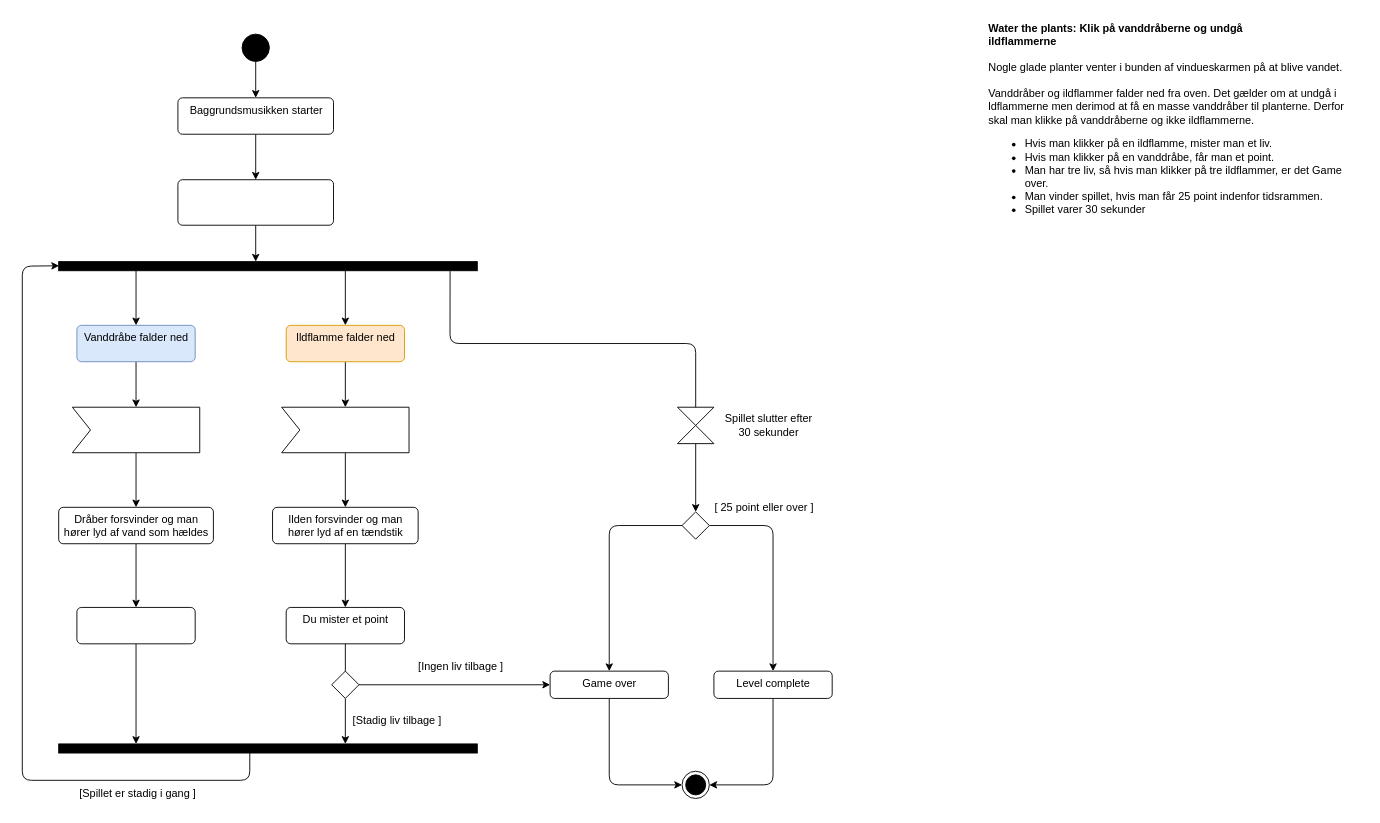
This 1380x823 diagram has some shape labels left out. Each missing label, with the centre of its shape:
Brugeren klikker på ildflamme: the point at 345,429
Brugeren klikker på vanddråbe: the point at 135,429
De glade planter ses i bunden af vindueskarmen: the point at 255,202
Du får et point: the point at 135,625
